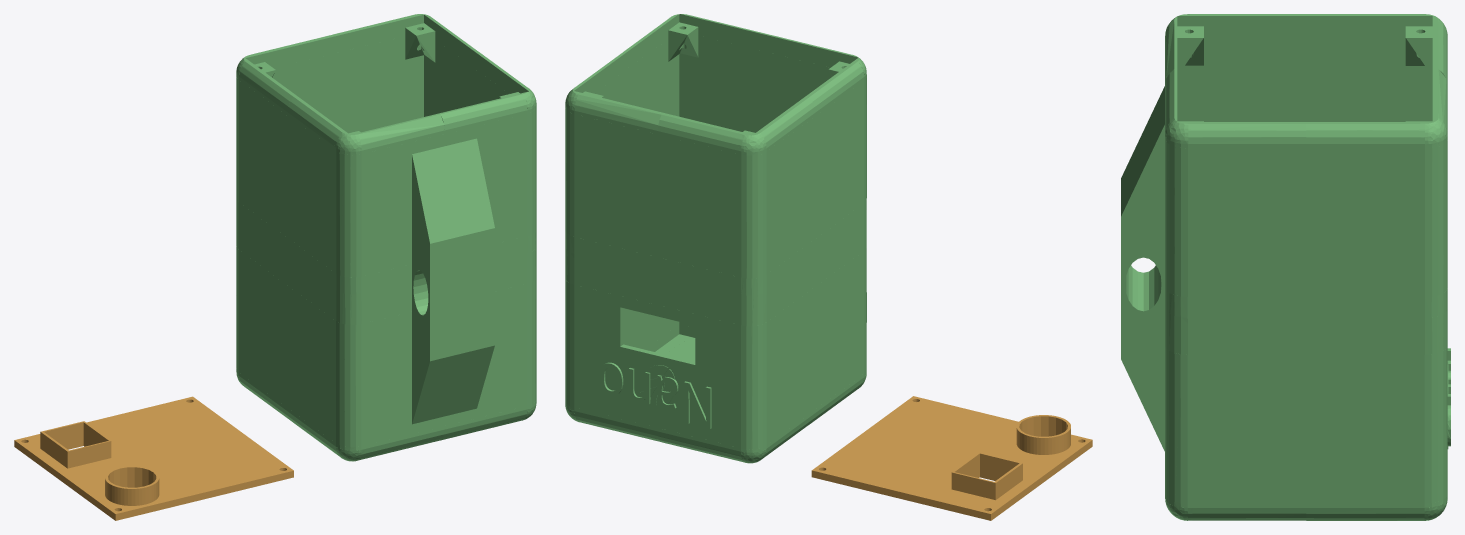
Rendered from Nanoleaf-pod-1.0.glb.
3 renders of one model, left to right at view 1: azimuth 30°, elevation 25°; view 2: azimuth 150°, elevation 25°; view 3: azimuth 270°, elevation 25°, orthographic. The views are drawn at different scales.
Parts seen in each view (by area): view 1: Mesh_Mesh_head_geo.001_lambert2SG.001; view 2: Mesh_Mesh_head_geo.001_lambert2SG.001; view 3: Mesh_Mesh_head_geo.001_lambert2SG.001.
Boxes of the visible parts, left/top/right/bottom form: Mesh_Mesh_head_geo.001_lambert2SG.001: left=14, top=14, right=536, bottom=520; Mesh_Mesh_head_geo.001_lambert2SG.001: left=565, top=14, right=1092, bottom=520; Mesh_Mesh_head_geo.001_lambert2SG.001: left=1121, top=14, right=1450, bottom=520.
Bounding box in the file's own units: 130 × 97.02 × 72.35.
